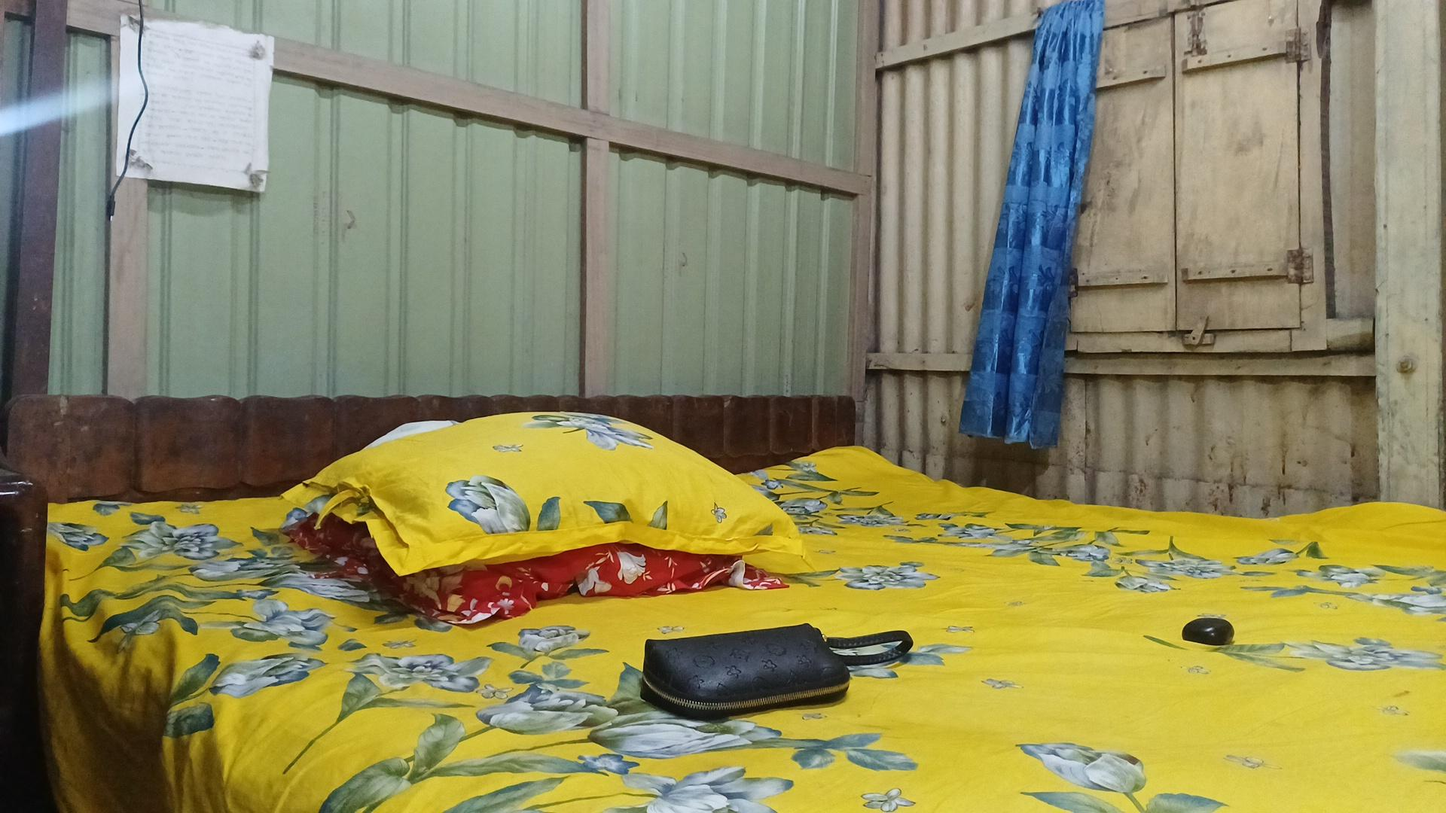Moneybag: (605, 621, 889, 732)
Pillow: (252, 406, 838, 598)
Window: (988, 6, 1349, 364)
